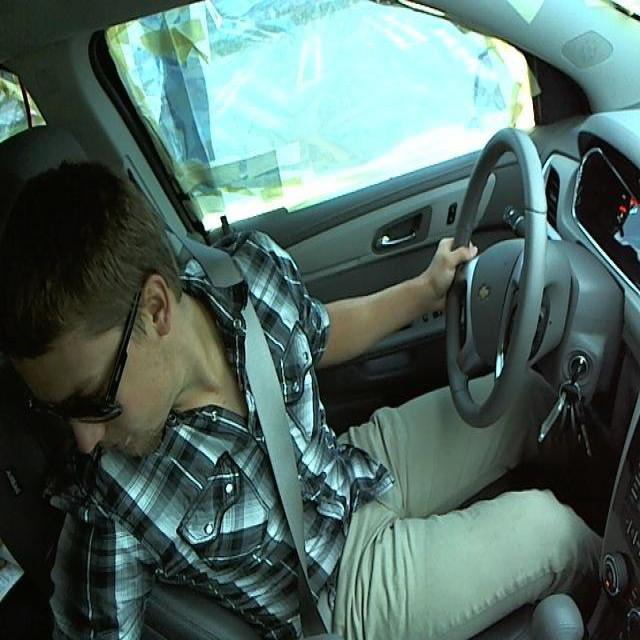seatbelt: (216, 298, 368, 638)
